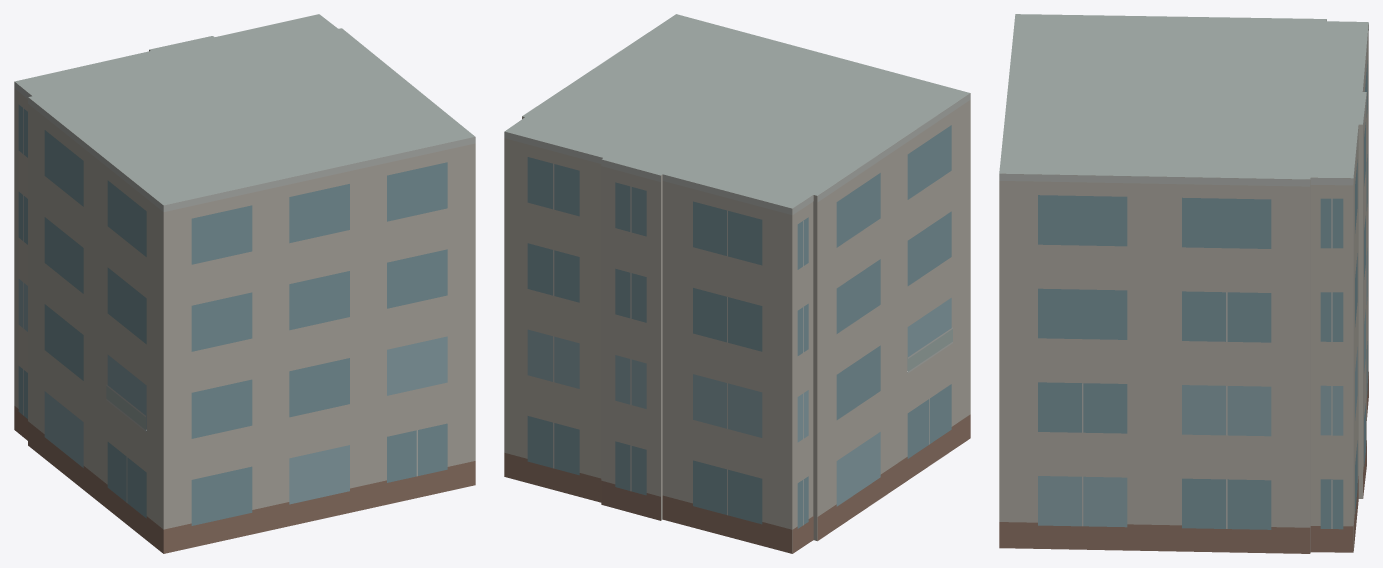
File: survey-upis-32953440.glb
The picture shows the model from 3 angles, left to right: view 1: azimuth 30°, elevation 25°; view 2: azimuth 150°, elevation 25°; view 3: azimuth 270°, elevation 25°; orthographic projection. The views are drawn at different scales.
Parts seen in each view (by area): view 1: survey-upis-32953440.tmp; view 2: survey-upis-32953440.tmp; view 3: survey-upis-32953440.tmp.
Boxes of the visible parts, box(x1,y1,x2,y2) form: survey-upis-32953440.tmp: box(14, 14, 475, 553); survey-upis-32953440.tmp: box(504, 14, 970, 553); survey-upis-32953440.tmp: box(999, 14, 1368, 553).
Size of the model in its own units: 12.04 by 12.7 by 11.37.
